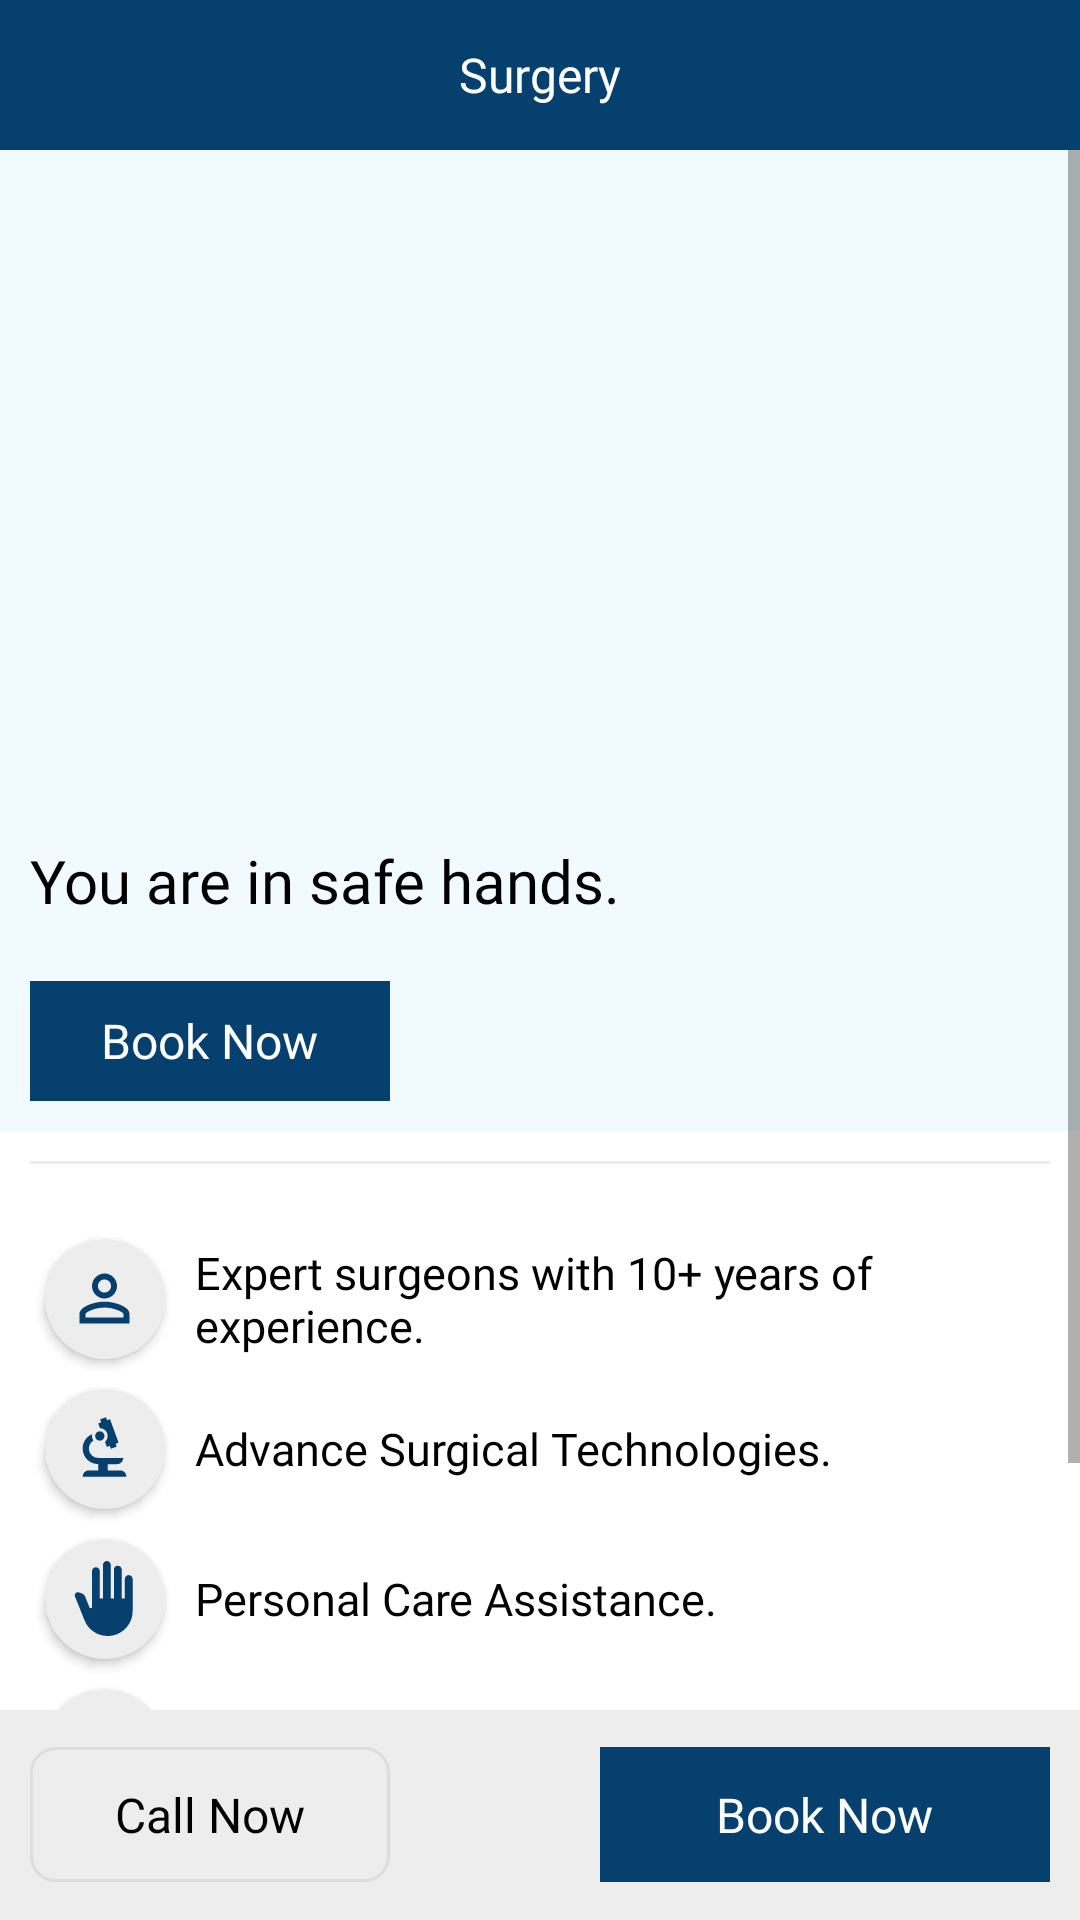

Point at icon controls on the screen. Image size 1080 x 1920, points as point (x, y).
back hand: point (103, 1598)
biotech: point (104, 1447)
person: point (104, 1298)
